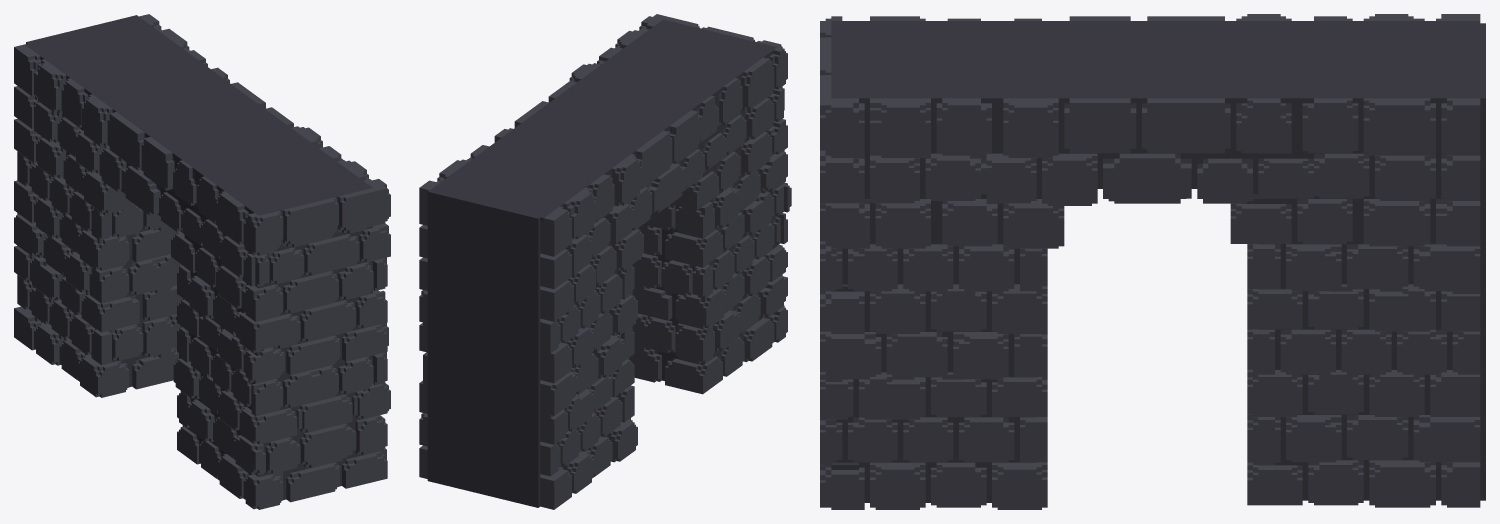
File: Door_01.obj
3 views of the same model, side by side, from view 1: azimuth 30°, elevation 25°; view 2: azimuth 150°, elevation 25°; view 3: azimuth 270°, elevation 25° (orthographic). The views are drawn at different scales.
Size of the model in its own units: 4 by 8 by 12.
Materials: 1 (1 with a texture image).
